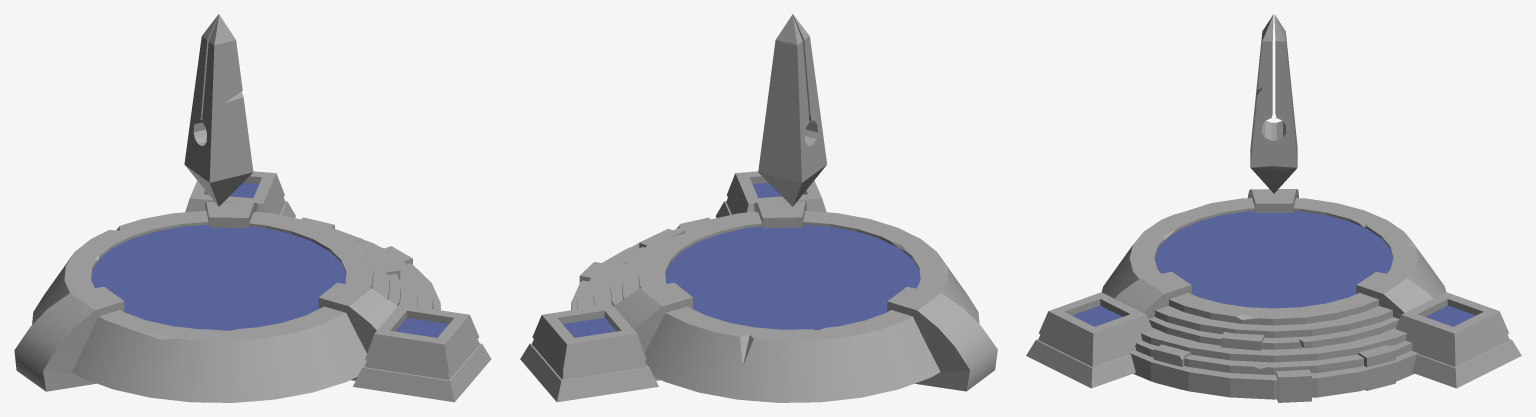
Rendered from SM_Module_Memoriel_V2.fbx.
The picture shows the model from 3 angles, left to right: view 1: azimuth 30°, elevation 25°; view 2: azimuth 150°, elevation 25°; view 3: azimuth 270°, elevation 25°; orthographic projection. The views are drawn at different scales.
Parts seen in each view (by area): view 1: SM_Module_Memoriel_V2, SM_Module_Memoriel_Pillar_V2; view 2: SM_Module_Memoriel_V2, SM_Module_Memoriel_Pillar_V2; view 3: SM_Module_Memoriel_V2, SM_Module_Memoriel_Pillar_V2.
Part boxes in pixels (x1,y1,x2,y2): SM_Module_Memoriel_V2: [14, 171, 491, 402]; SM_Module_Memoriel_Pillar_V2: [184, 14, 253, 206]; SM_Module_Memoriel_V2: [520, 171, 997, 402]; SM_Module_Memoriel_Pillar_V2: [758, 14, 827, 206]; SM_Module_Memoriel_V2: [1026, 189, 1521, 402]; SM_Module_Memoriel_Pillar_V2: [1250, 14, 1297, 193].
Size of what is drawn, in the model's own units: 1586 by 1302 by 1886.
